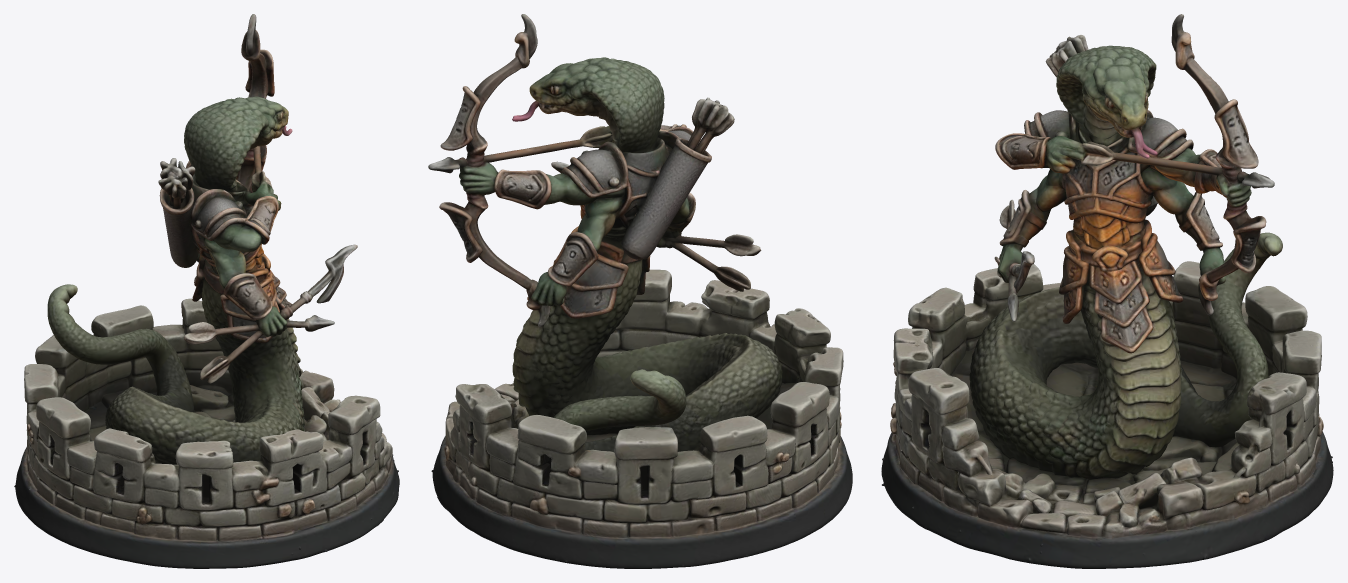
Rendered from inspiration-375.glb.
The picture shows the model from 3 angles, left to right: view 1: azimuth 30°, elevation 25°; view 2: azimuth 150°, elevation 25°; view 3: azimuth 270°, elevation 25°; orthographic projection. The views are drawn at different scales.
Visible parts, largest first — view 1: tripo_node_f28061e7-e1ed-4afe-a194-d68078578209; view 2: tripo_node_f28061e7-e1ed-4afe-a194-d68078578209; view 3: tripo_node_f28061e7-e1ed-4afe-a194-d68078578209.
Boxes of the visible parts, x1,y1,x2,y2 form: tripo_node_f28061e7-e1ed-4afe-a194-d68078578209: [14, 14, 399, 568]; tripo_node_f28061e7-e1ed-4afe-a194-d68078578209: [428, 14, 852, 568]; tripo_node_f28061e7-e1ed-4afe-a194-d68078578209: [881, 14, 1333, 568].
Bounding box in the file's own units: 0.8129 × 1 × 0.8119.
1 material, 1 textured.
